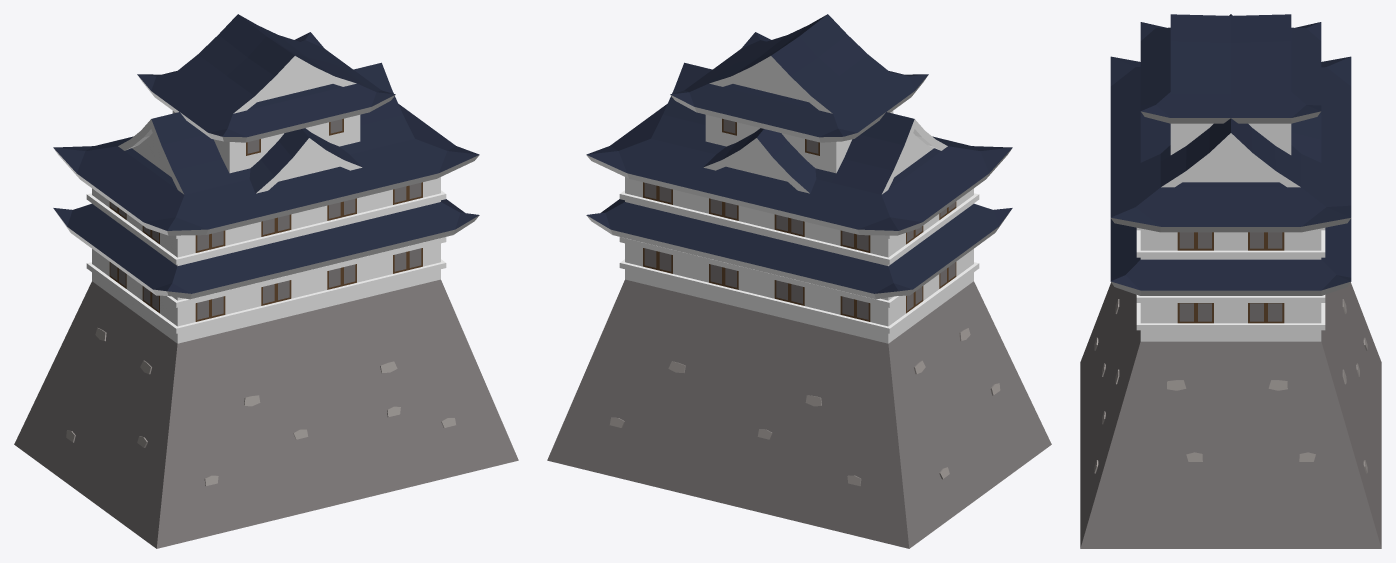
File: japan_tower-japan_medium.fbx
3 views of the same model, side by side, from view 1: azimuth 30°, elevation 25°; view 2: azimuth 150°, elevation 25°; view 3: azimuth 270°, elevation 25° (orthographic). The views are drawn at different scales.
Parts seen in each view (by area): view 1: japan_tower_japan_medium; view 2: japan_tower_japan_medium; view 3: japan_tower_japan_medium.
Boxes of the visible parts, <box> form: japan_tower_japan_medium: <box>14,14,518,548</box>; japan_tower_japan_medium: <box>547,14,1051,548</box>; japan_tower_japan_medium: <box>1080,14,1381,548</box>.
Size of the model in its own units: 181 by 200 by 124.
